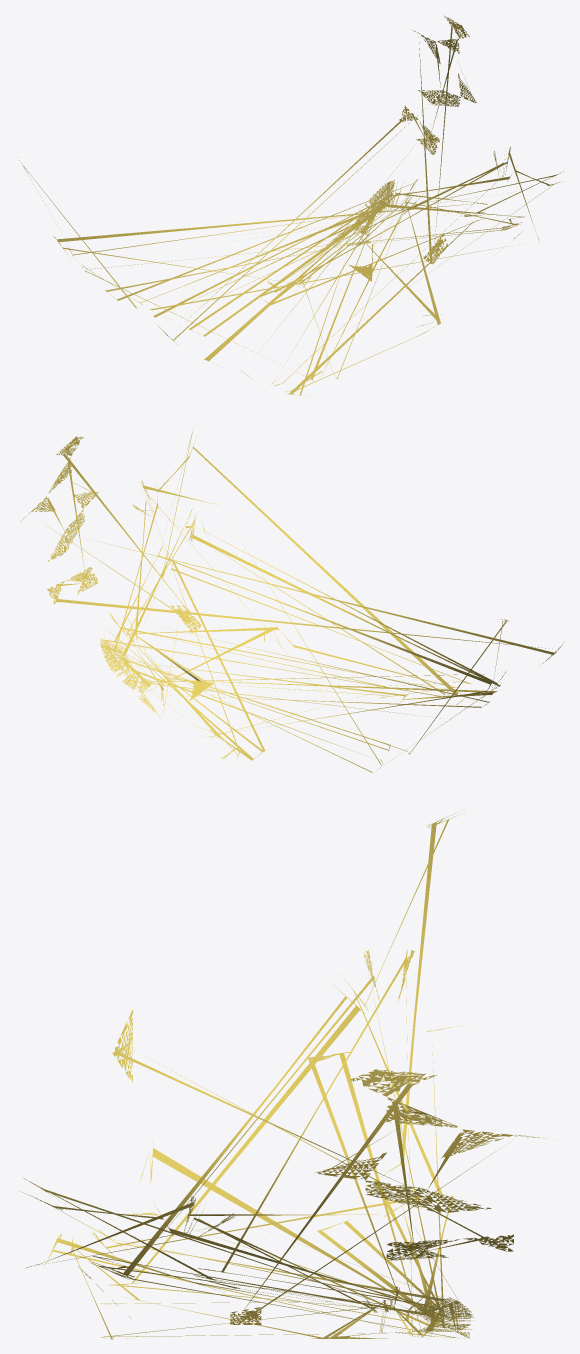
Rendered from name.glb.
3 renders of one model, top to bottom at view 1: azimuth 30°, elevation 25°; view 2: azimuth 150°, elevation 25°; view 3: azimuth 270°, elevation 25°, orthographic. The views are drawn at different scales.
Visible parts, largest first — view 1: mee; view 2: mee; view 3: mee.
Boxes of the visible parts, box(x1,y1,x2,y2) form: mee: box(19, 16, 563, 396); mee: box(20, 431, 564, 772); mee: box(20, 809, 557, 1339).
Bounding box in the file's own units: 0.7326 × 0.4045 × 0.5027.
